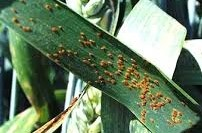Leaf Rust: (60, 31, 185, 119)
